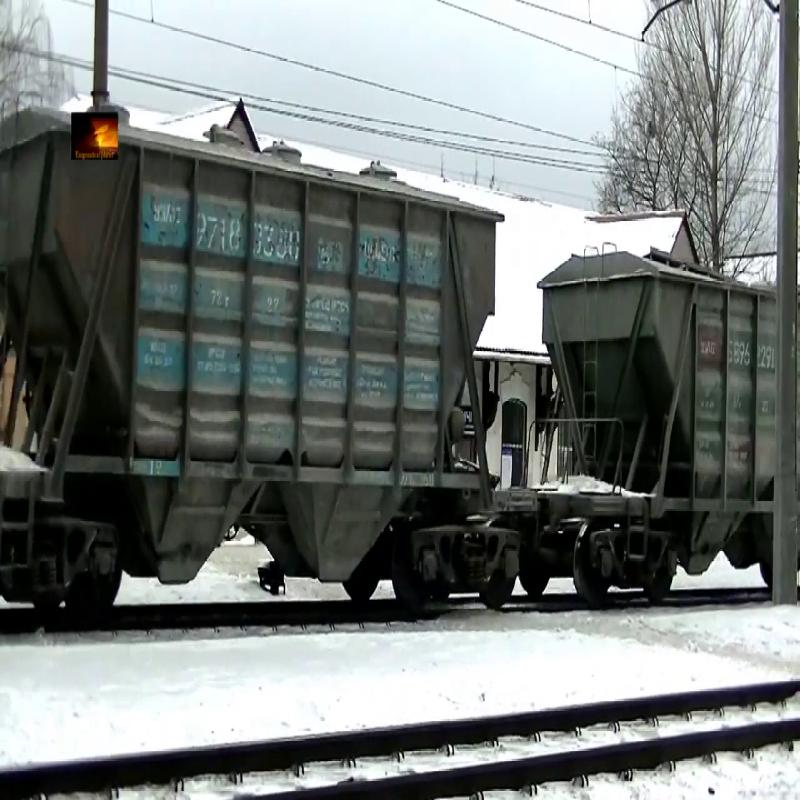train: (1, 111, 500, 606), (539, 259, 775, 603)
